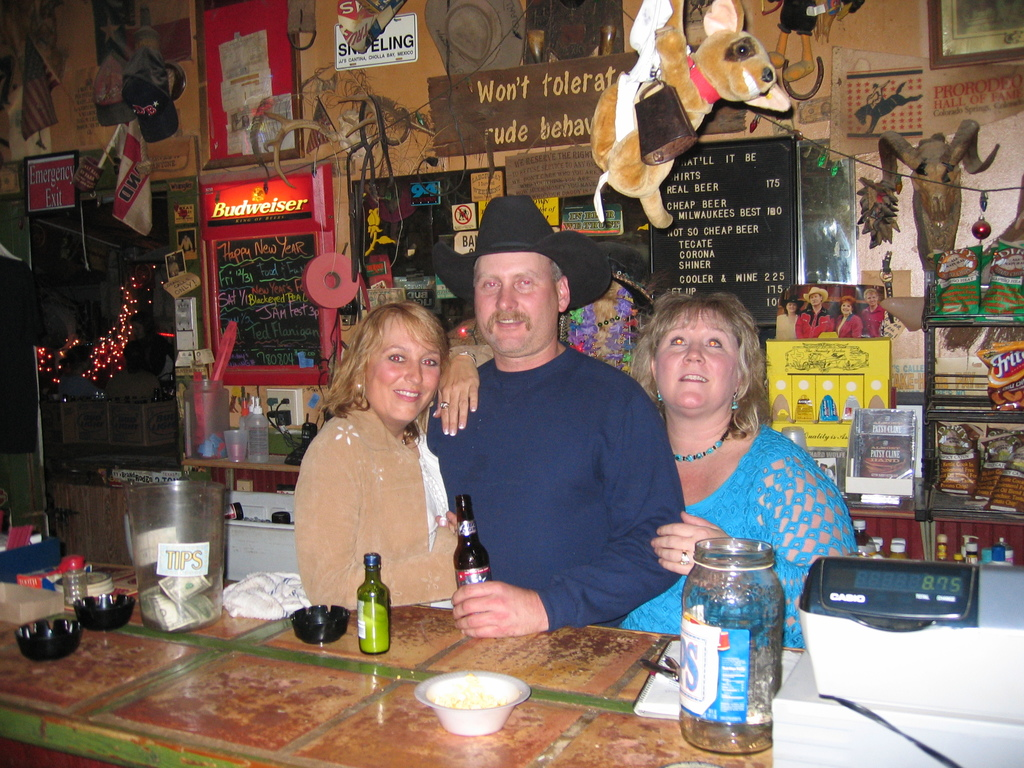Beer: (452, 493, 490, 587)
